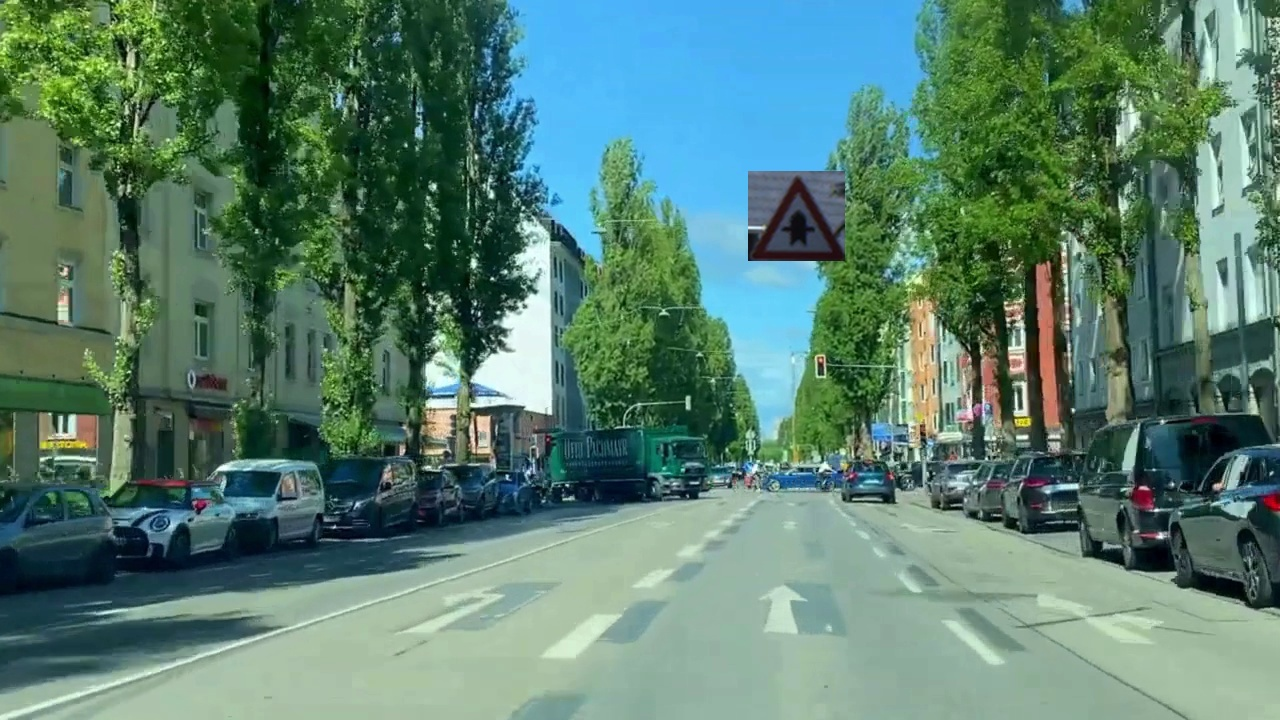Right-of-way: (748, 171, 845, 261)
